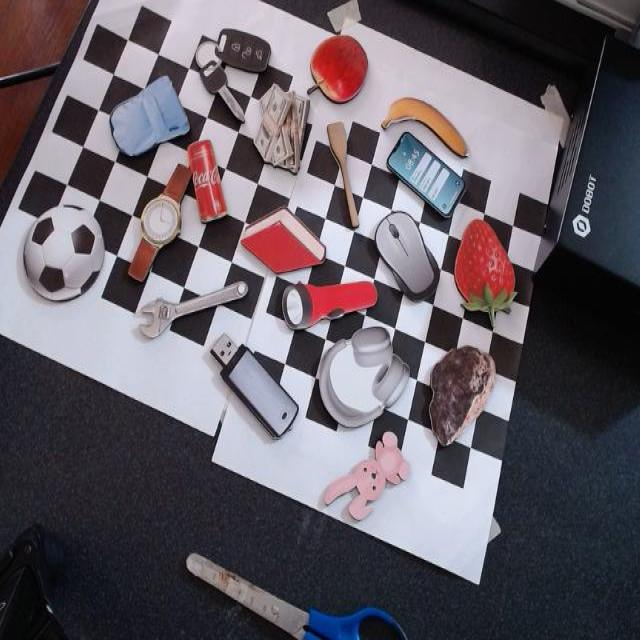Other Objects: (185, 552, 408, 639), (307, 305, 416, 445), (204, 323, 302, 445), (184, 3, 273, 122), (368, 201, 445, 313), (22, 203, 106, 302), (126, 161, 192, 281), (323, 429, 410, 520), (103, 71, 189, 163), (278, 261, 379, 332), (386, 129, 465, 219), (428, 344, 495, 447), (133, 280, 248, 337), (380, 96, 467, 157), (252, 81, 309, 173), (308, 33, 368, 103), (326, 120, 359, 231), (186, 137, 227, 223)
